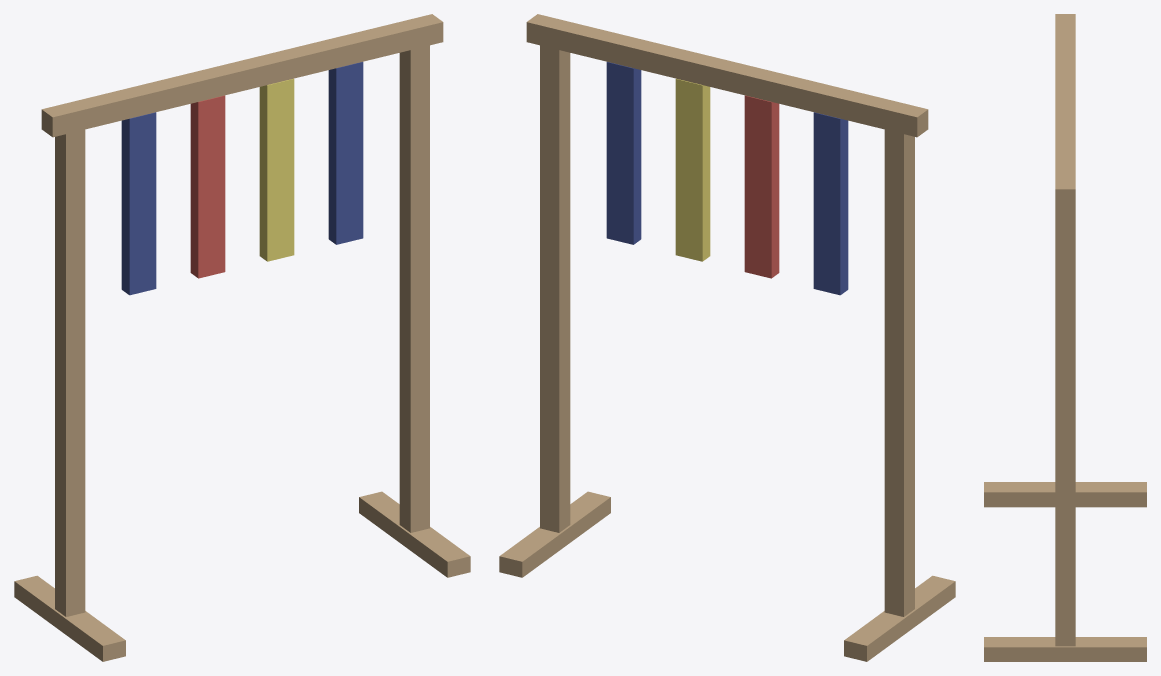
The model's file is prop-yarn-skein-rack.fbx.
3 views of the same model, side by side, from view 1: azimuth 30°, elevation 25°; view 2: azimuth 150°, elevation 25°; view 3: azimuth 270°, elevation 25° (orthographic). The views are drawn at different scales.
Parts seen in each view (by area): view 1: prop-yarn-skein-rack; view 2: prop-yarn-skein-rack; view 3: prop-yarn-skein-rack.
Part boxes in pixels (x1,y1,x2,y2): prop-yarn-skein-rack: (14,14,470,661); prop-yarn-skein-rack: (499,14,955,661); prop-yarn-skein-rack: (984,14,1146,661).
Size of the model in its own units: 102 by 129 by 40.
